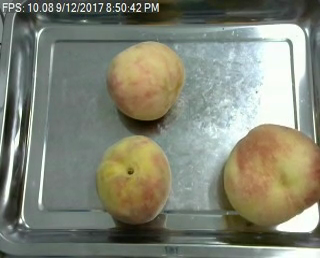Peach: (220, 121, 319, 229), (95, 134, 171, 222), (107, 40, 183, 120)
